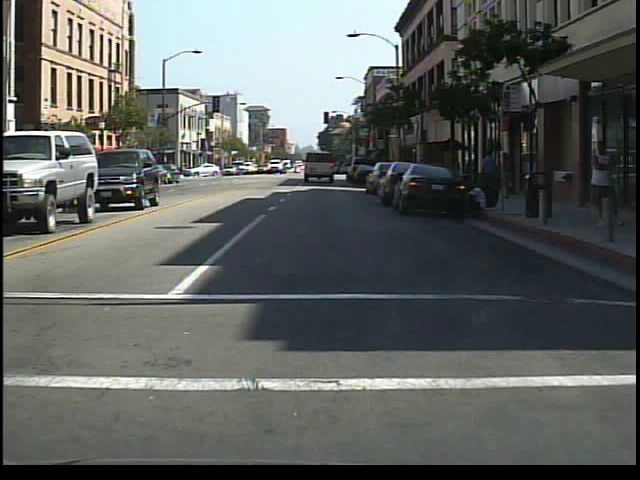person: (585, 126, 619, 233), (479, 142, 502, 203), (496, 150, 519, 206)
